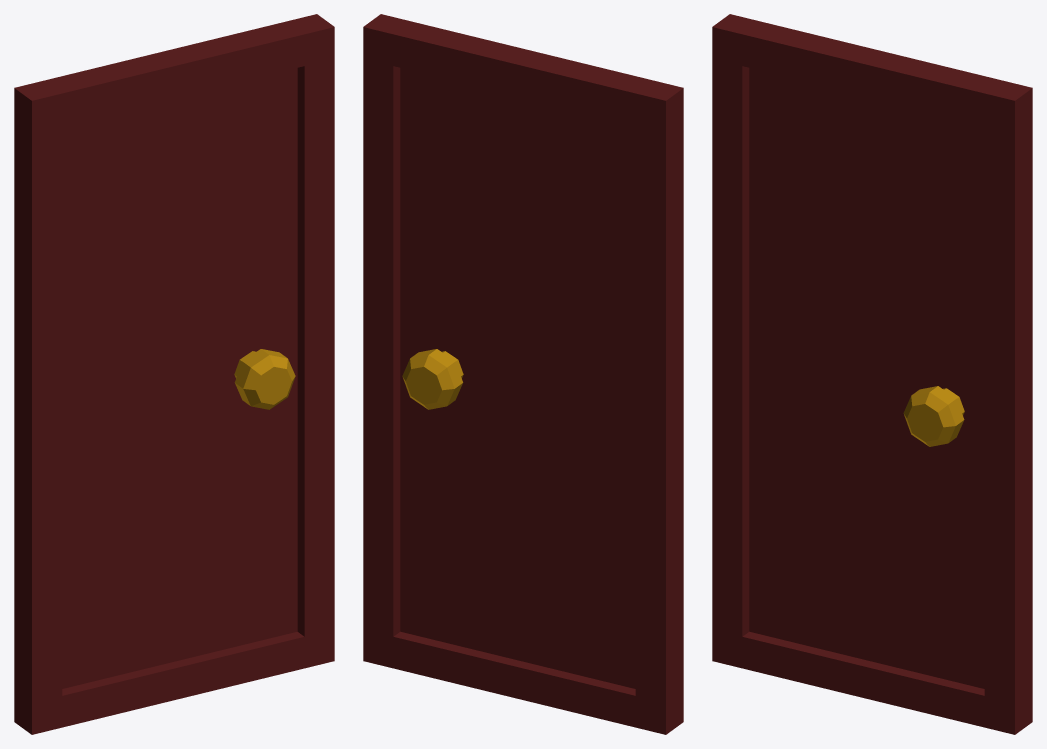
The model's file is Door.glb.
3 views of the same model, side by side, from view 1: azimuth 30°, elevation 25°; view 2: azimuth 150°, elevation 25°; view 3: azimuth 330°, elevation 25° (orthographic).
Parts seen in each view (by area): view 1: Door, Handle; view 2: Door, Handle; view 3: Door, Handle.
Boxes of the visible parts, x1=… form: Door: x1=14, y1=14, x2=334, y2=734; Handle: x1=234, y1=349, x2=295, y2=409; Door: x1=363, y1=14, x2=683, y2=734; Handle: x1=402, y1=349, x2=463, y2=409; Door: x1=712, y1=14, x2=1032, y2=734; Handle: x1=903, y1=386, x2=964, y2=446.
Size of the model in its own units: 0.9997 by 2 by 0.2681.
